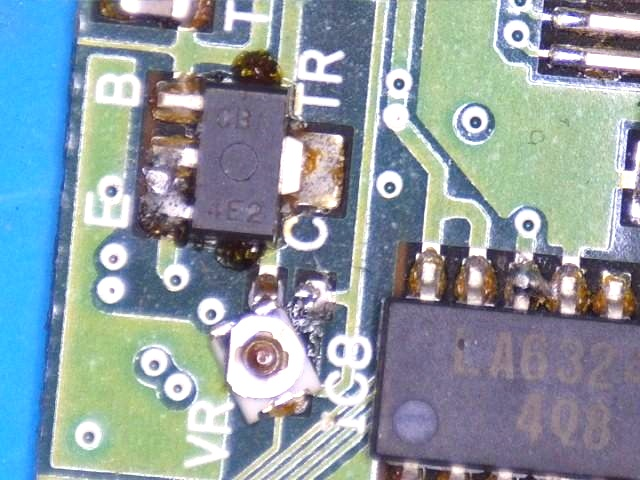pcb_defect: (209, 265, 329, 426), (139, 137, 200, 235), (505, 254, 590, 315)
